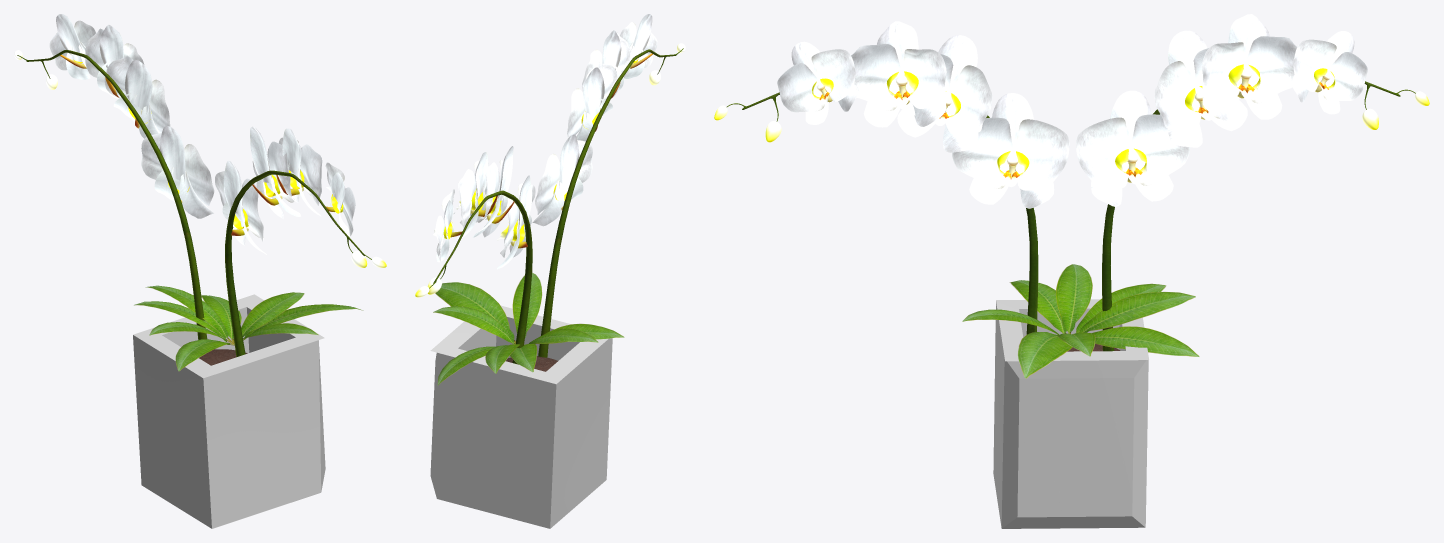
Rendered from flor.glb.
3 views of the same model, side by side, from view 1: azimuth 30°, elevation 25°; view 2: azimuth 150°, elevation 25°; view 3: azimuth 270°, elevation 25° (orthographic). The views are drawn at different scales.
Visible parts, largest first — view 1: Object_4; view 2: Object_4; view 3: Object_4.
Boxes of the visible parts, x1,y1,x2,y2 form: Object_4: [14, 14, 386, 528]; Object_4: [415, 14, 685, 528]; Object_4: [714, 14, 1429, 528].
Size of the model in its own units: 1.07 by 2.24 by 3.06.
Materials: 5 (5 with a texture image).
